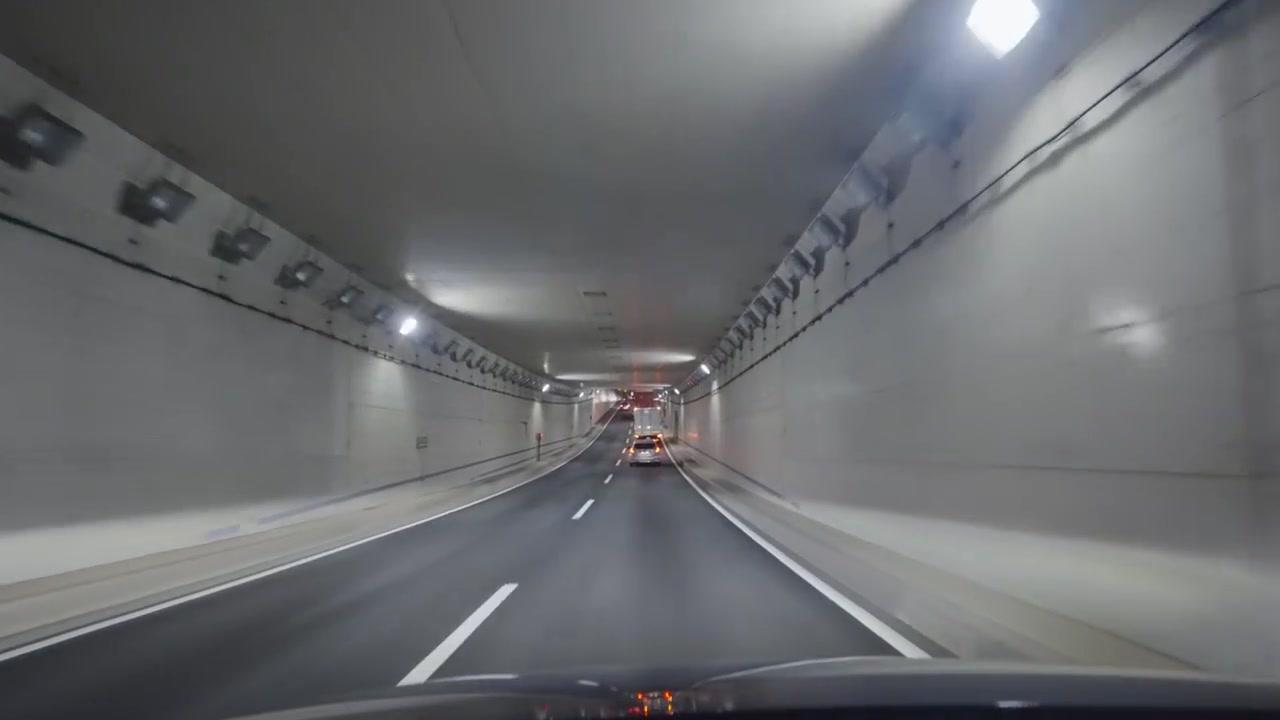car: (627, 432, 668, 465)
train: (625, 384, 681, 465)
